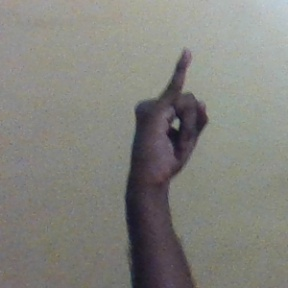I: (128, 46, 210, 185)
